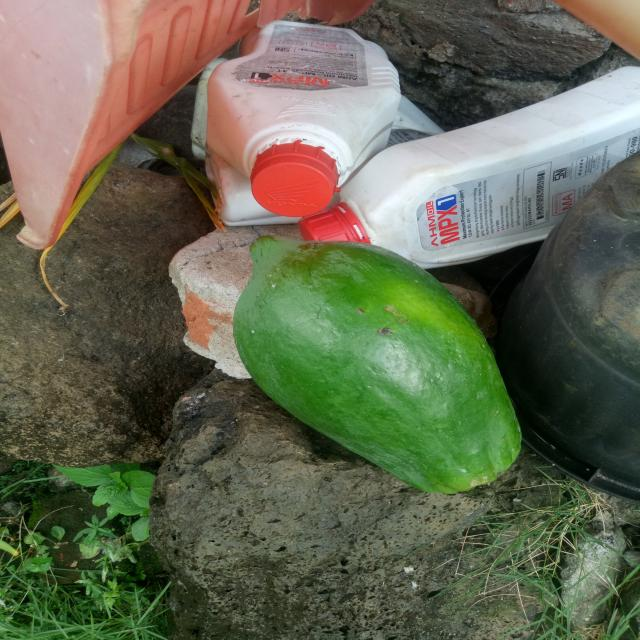Pepaya unrippen: (232, 227, 528, 494)
